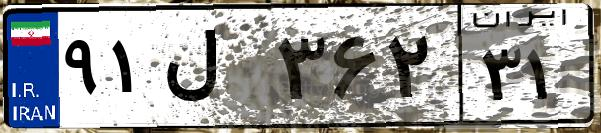1: (525, 38, 570, 115), (110, 28, 158, 98)
2: (385, 28, 445, 110)
3: (270, 28, 330, 110), (475, 38, 525, 113)
6: (330, 28, 385, 110)
9: (57, 26, 110, 100)
ل: (158, 20, 270, 120)
